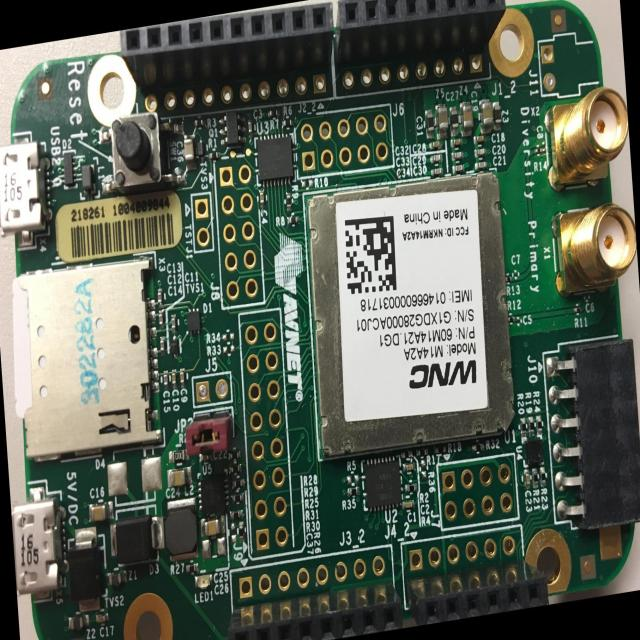Button: (97, 108, 187, 200)
Capacitor Jumper: (200, 515, 227, 538), (182, 134, 197, 172), (167, 466, 192, 488), (88, 501, 114, 522), (492, 101, 503, 132), (449, 105, 459, 137), (425, 109, 434, 139), (156, 286, 164, 308), (170, 312, 178, 333), (402, 460, 416, 472), (179, 367, 187, 387), (523, 469, 531, 489), (246, 118, 254, 138), (159, 335, 166, 357), (171, 368, 178, 388), (162, 370, 169, 390), (198, 452, 212, 462), (258, 189, 265, 208), (403, 499, 414, 511), (475, 161, 487, 172), (429, 140, 442, 150), (473, 134, 486, 144), (158, 308, 164, 328), (450, 138, 462, 148), (474, 147, 486, 157), (452, 164, 464, 174), (430, 154, 443, 163), (430, 167, 442, 176), (452, 151, 463, 160)
Connector: (7, 250, 165, 470), (129, 0, 343, 125), (540, 330, 640, 536), (326, 0, 509, 101), (228, 542, 403, 640), (400, 521, 549, 628), (237, 308, 296, 560), (543, 83, 632, 193), (551, 199, 639, 298), (212, 154, 265, 310), (293, 101, 395, 180), (10, 479, 69, 606), (436, 451, 520, 531), (0, 128, 51, 252), (536, 28, 602, 101), (190, 190, 215, 253), (191, 371, 233, 408)
Diode: (109, 504, 166, 566), (68, 532, 108, 602), (219, 109, 247, 150), (61, 148, 77, 190), (186, 308, 201, 336), (169, 335, 181, 360)
IC: (302, 162, 516, 462), (361, 456, 404, 512), (253, 132, 296, 188), (197, 471, 229, 514), (522, 436, 544, 466)
Inductor: (163, 496, 198, 563), (79, 156, 99, 200)
Jumper: (185, 407, 235, 453)
Led: (194, 574, 213, 589)
Pads: (107, 454, 165, 498), (200, 536, 228, 560), (222, 329, 235, 344), (419, 459, 428, 479), (222, 344, 236, 356), (347, 474, 360, 485), (301, 179, 314, 189), (231, 522, 237, 543), (541, 140, 546, 153), (513, 268, 518, 280), (516, 315, 520, 328), (584, 294, 590, 300)
Resistor: (169, 449, 189, 465), (228, 462, 242, 477), (232, 478, 246, 492), (400, 448, 414, 461), (471, 440, 484, 454), (186, 562, 200, 575), (535, 414, 543, 436), (237, 521, 245, 543), (520, 417, 528, 438), (531, 468, 539, 489), (230, 493, 245, 504), (527, 416, 535, 436), (405, 482, 418, 494), (539, 466, 546, 488), (207, 151, 221, 162), (433, 444, 448, 454), (416, 446, 428, 458), (347, 486, 360, 497), (194, 119, 206, 130), (228, 450, 241, 460), (230, 510, 243, 520), (267, 108, 278, 119), (288, 214, 299, 225), (286, 192, 292, 210), (282, 118, 292, 128), (508, 315, 515, 323), (574, 307, 581, 315), (505, 276, 512, 283), (535, 147, 542, 154)
Unknown Unlabeled: (459, 100, 475, 138), (479, 98, 494, 134), (435, 102, 449, 140)
